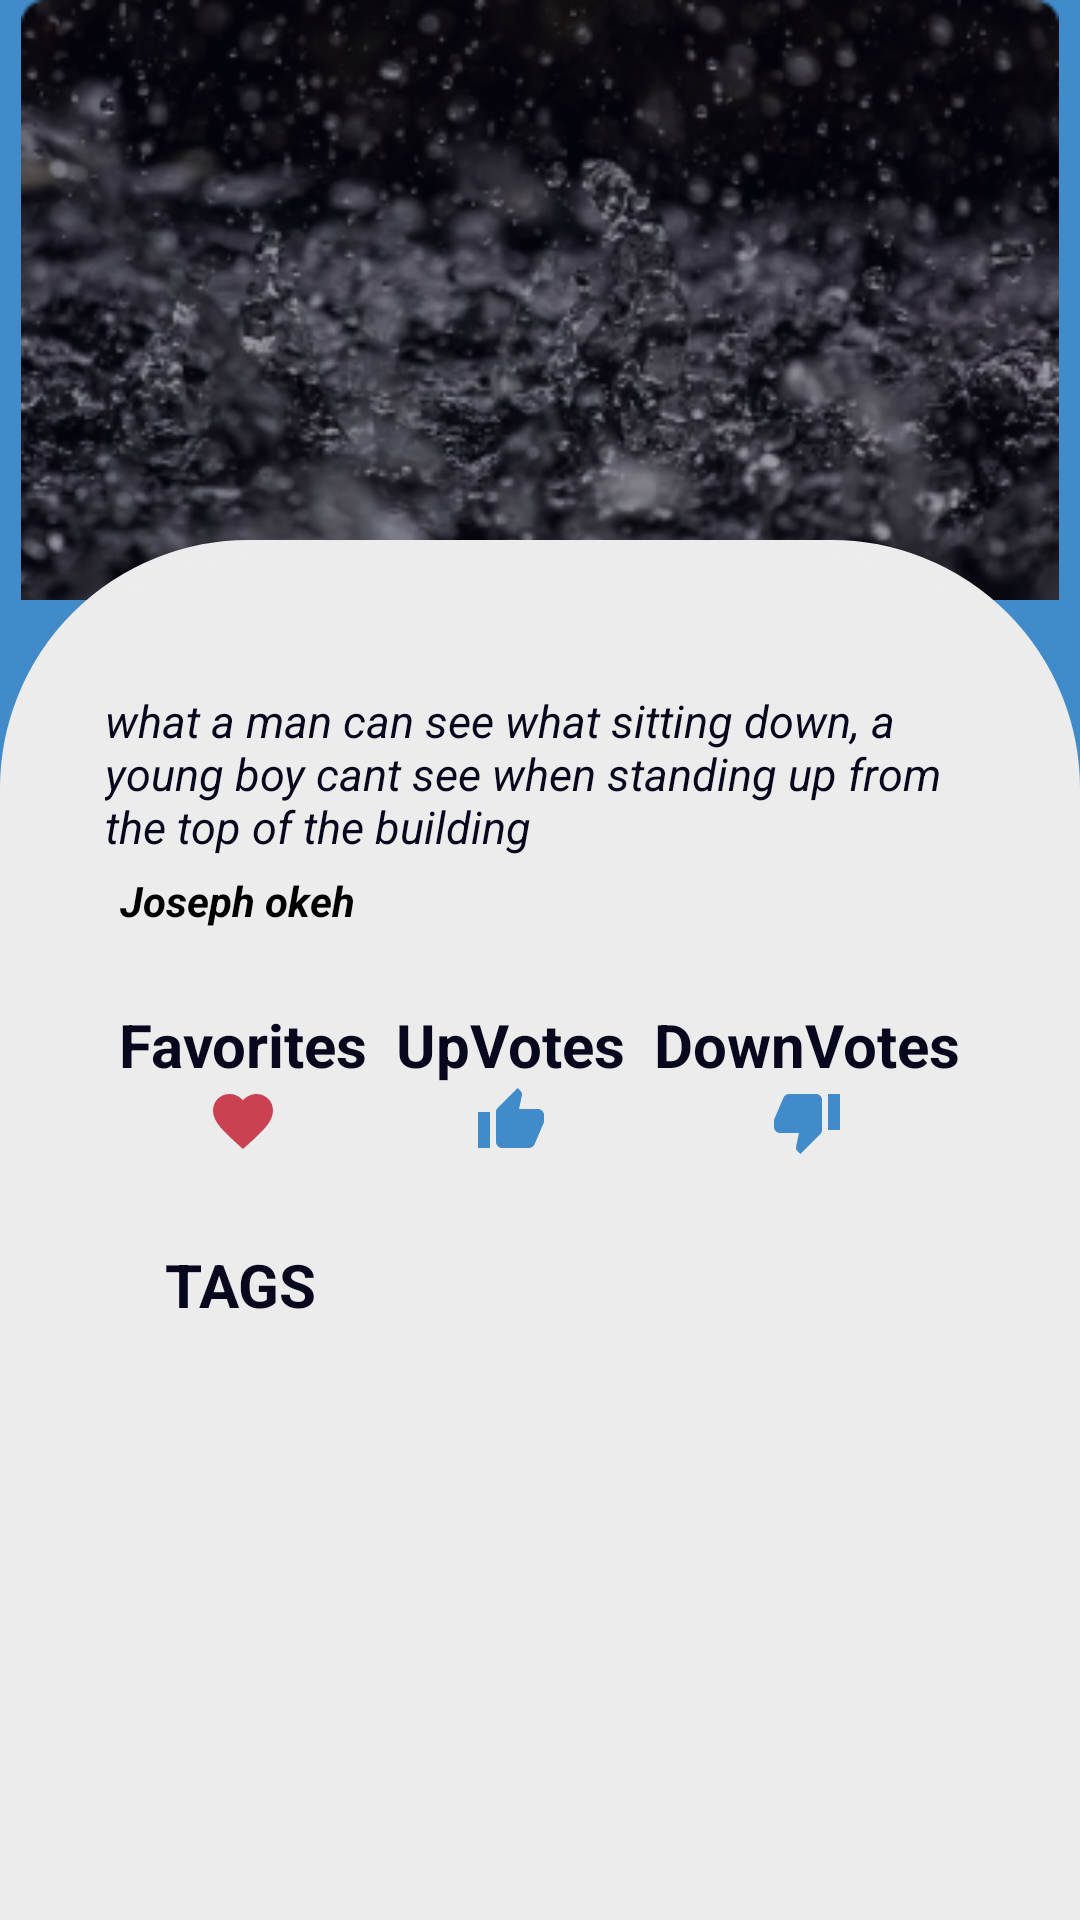

Named icons in this screenshot (1080*1920) and their bounding boxes, (x1, y1, x2, y2):
thumb down: (774, 1094, 840, 1154)
thumb up: (478, 1088, 544, 1148)
